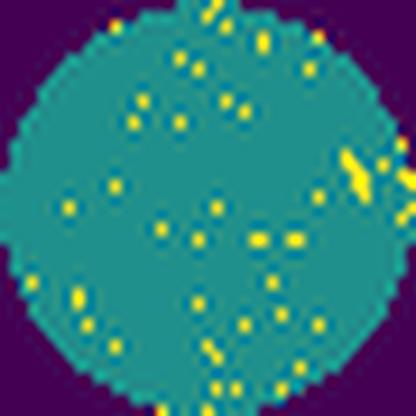Loc: (342, 150, 374, 202)
